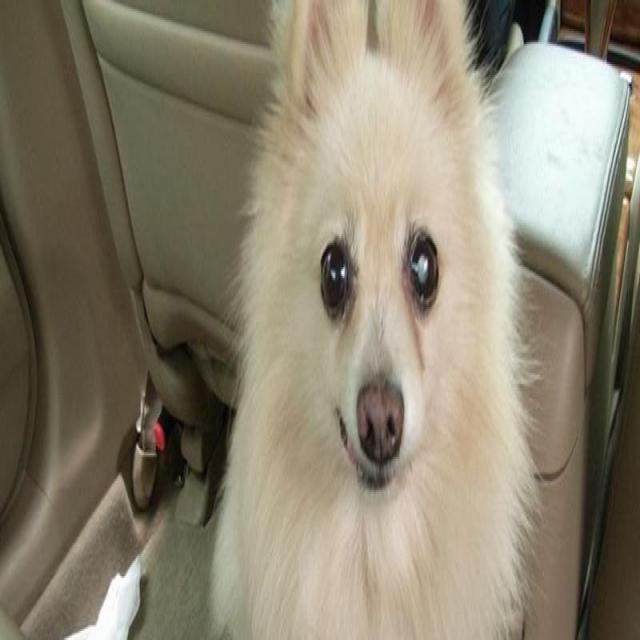eye: (406, 223, 441, 312), (317, 235, 352, 321)
